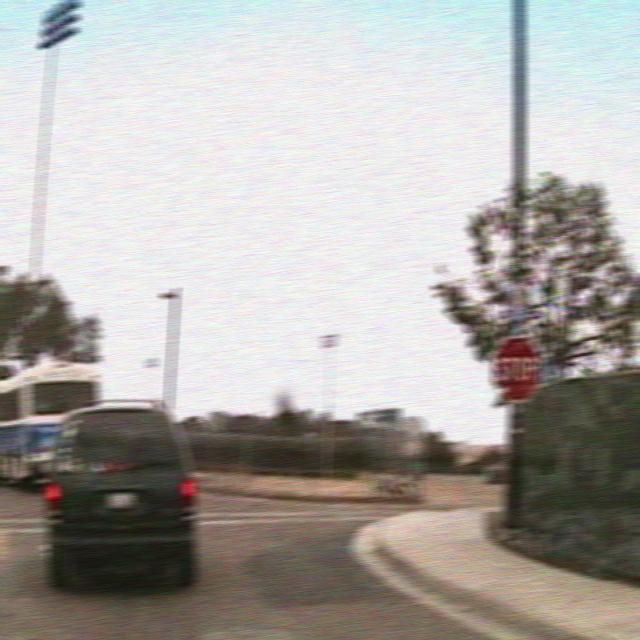stop: (489, 334, 542, 402)
